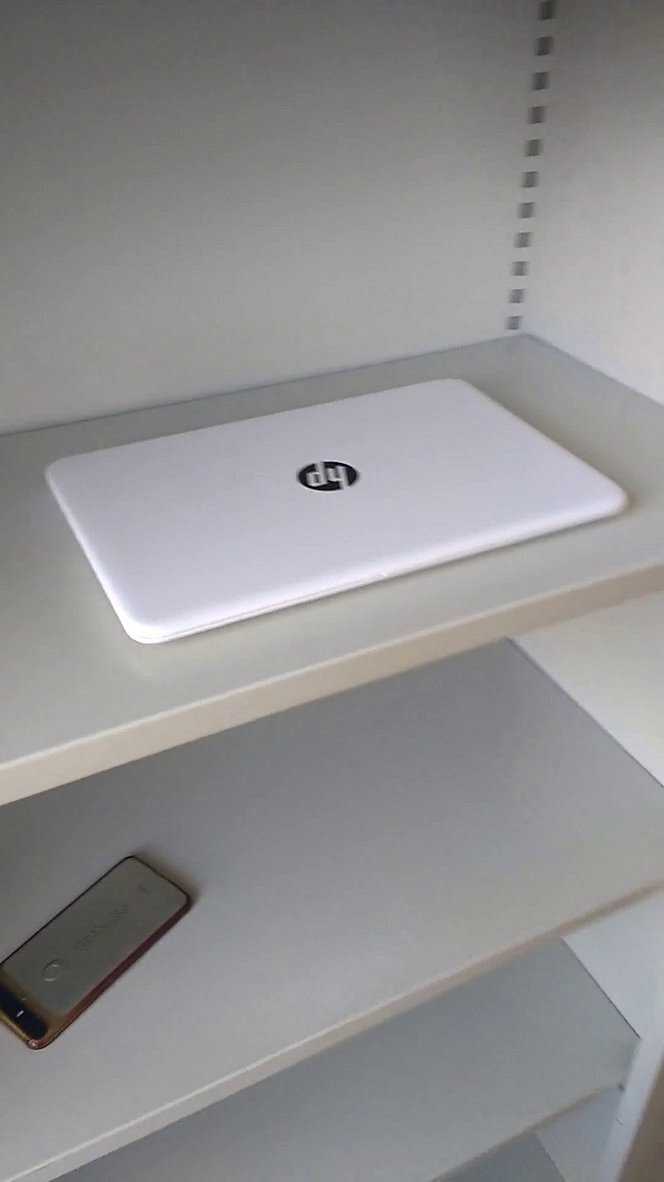laptop: (36, 368, 659, 657)
phone: (1, 846, 209, 1061)
